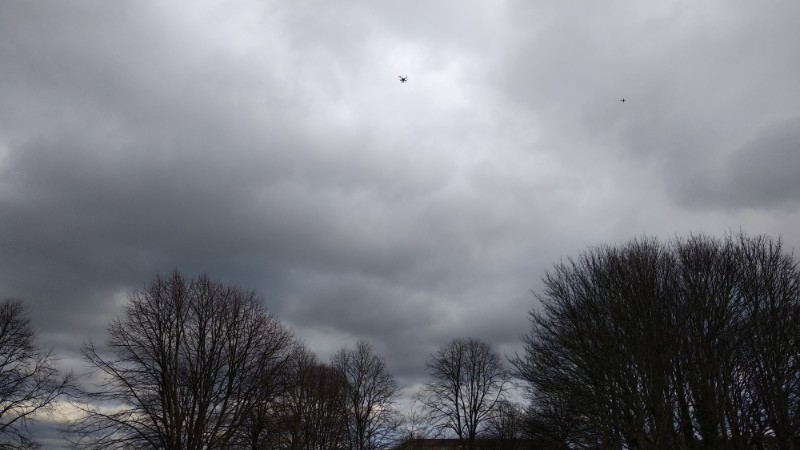drone: (398, 74, 410, 84)
